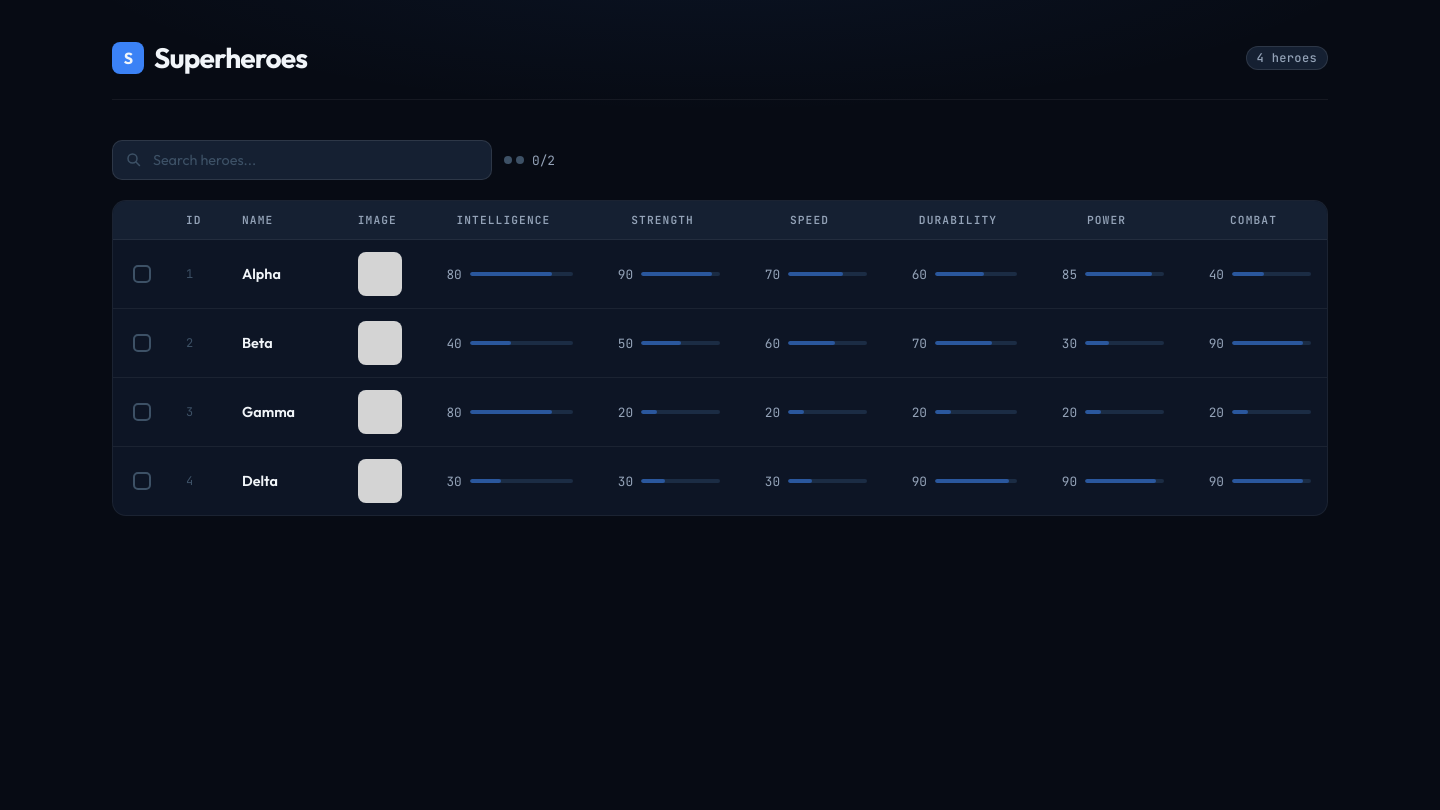
it: compare view › Back button returns to table view
The image size is (1440, 810).
Click the checkbox in the row of "Alpha".
click(142, 274)  # box [133,265,151,283]
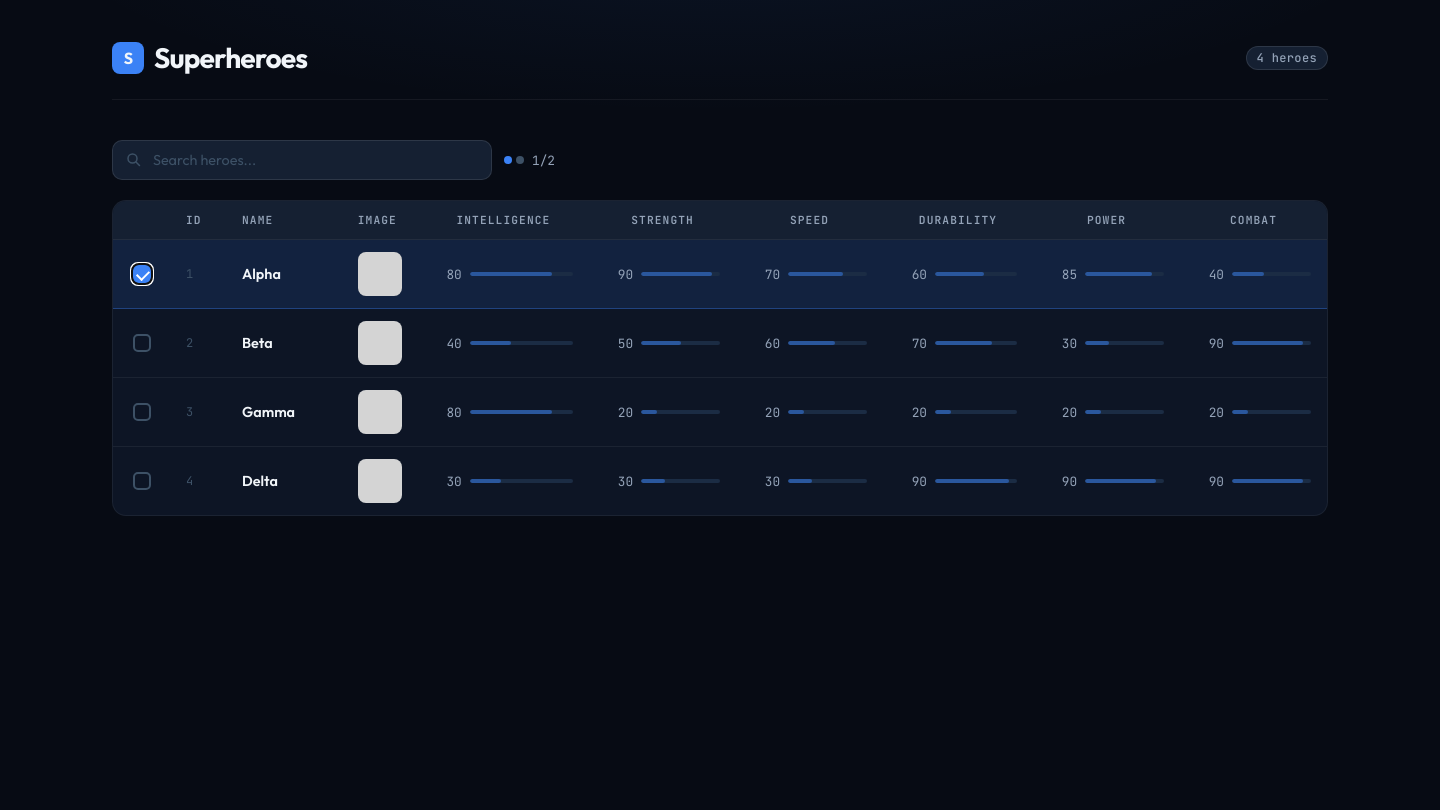
Click the checkbox in the row of "Beta".
click(142, 343)  # box [133,334,151,352]
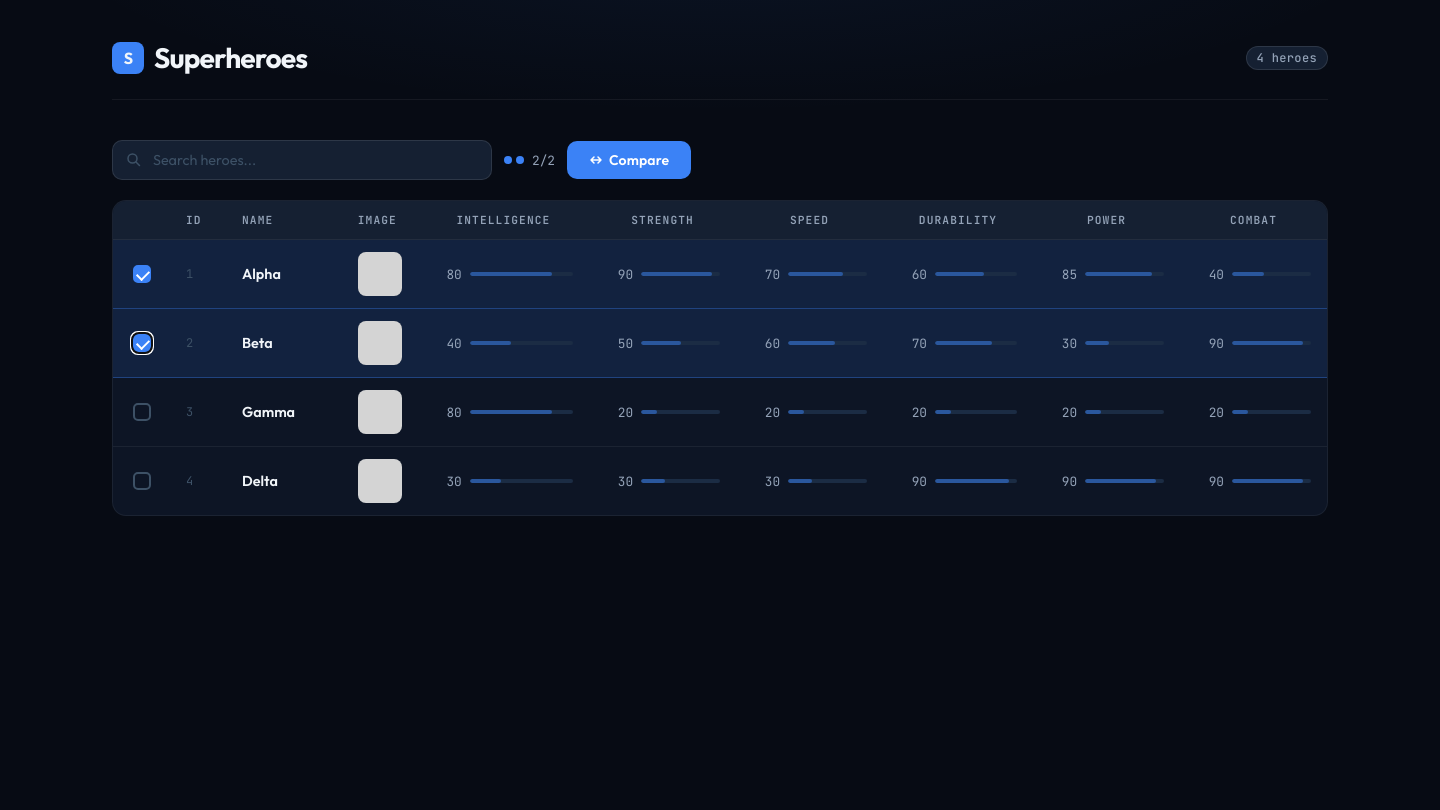
Click the button "Compare".
click(629, 160)  # box [567,141,691,179]
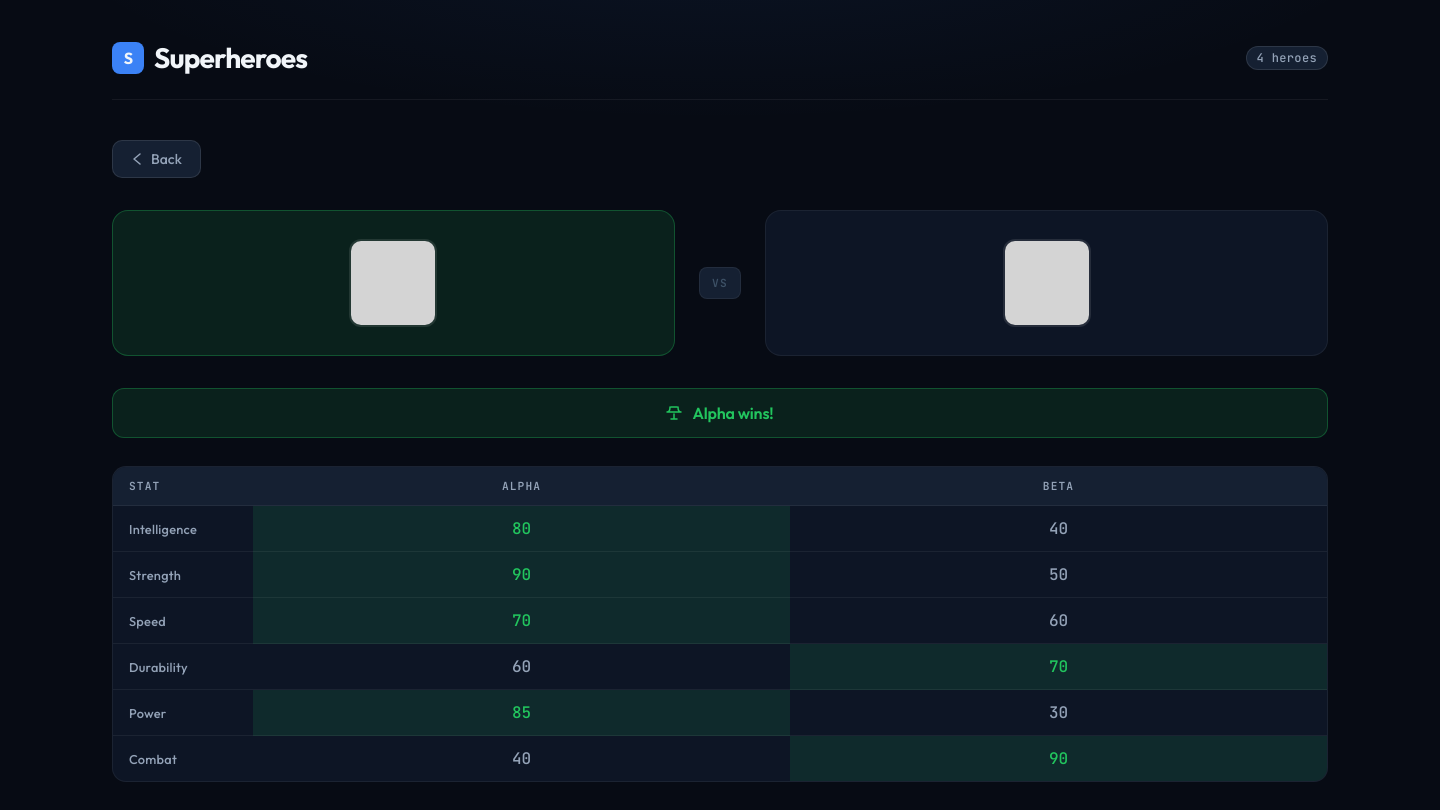
Click the button "Back".
click(156, 159)  # box [112,140,201,178]
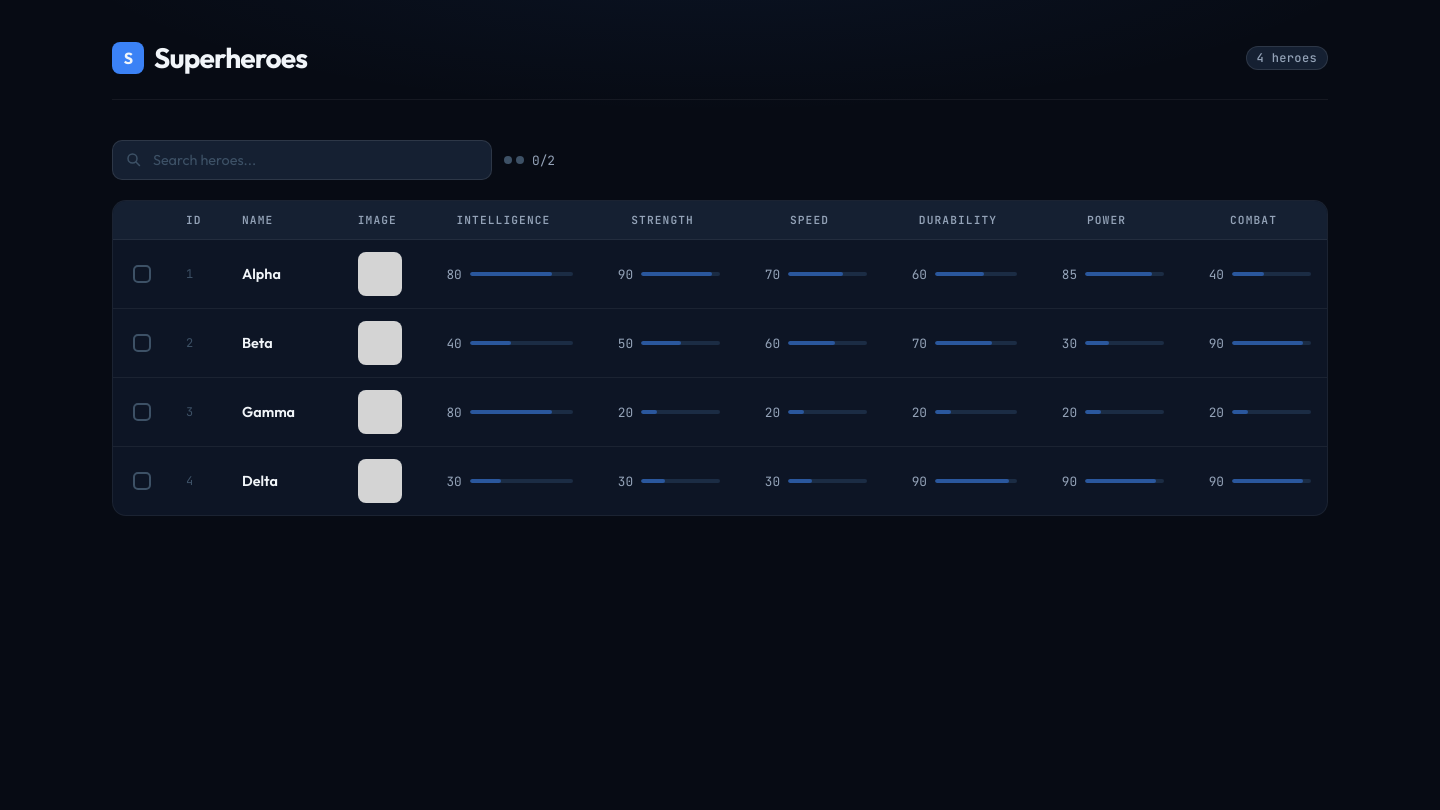
Now the button "Back" is gone
Now the number of checkboxes is 4, box [133,265,151,283]; [133,334,151,352]; [133,403,151,421]; [133,472,151,490]
